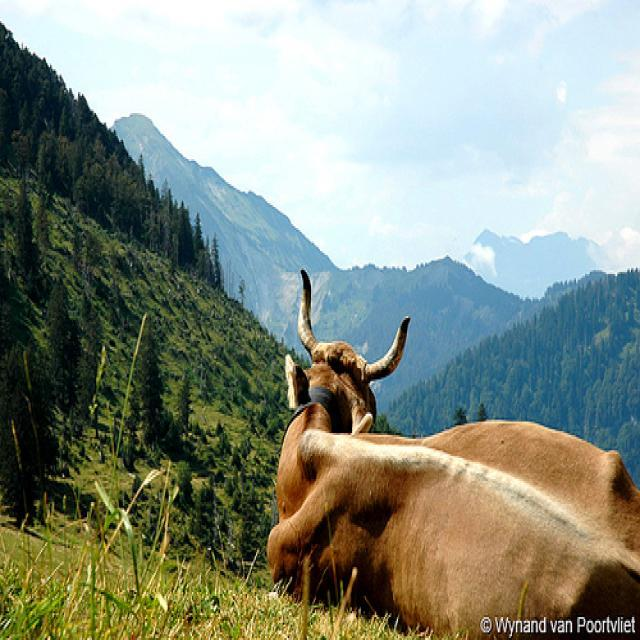cow: (265, 263, 637, 629)
